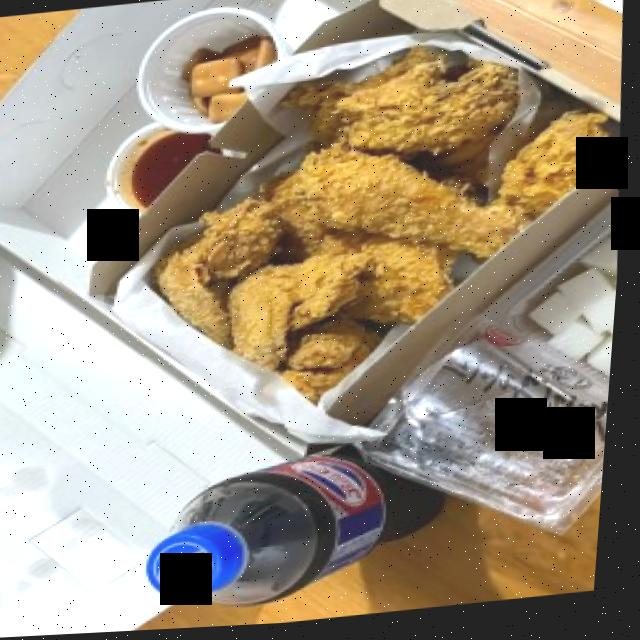Frango: (134, 2, 638, 442)
